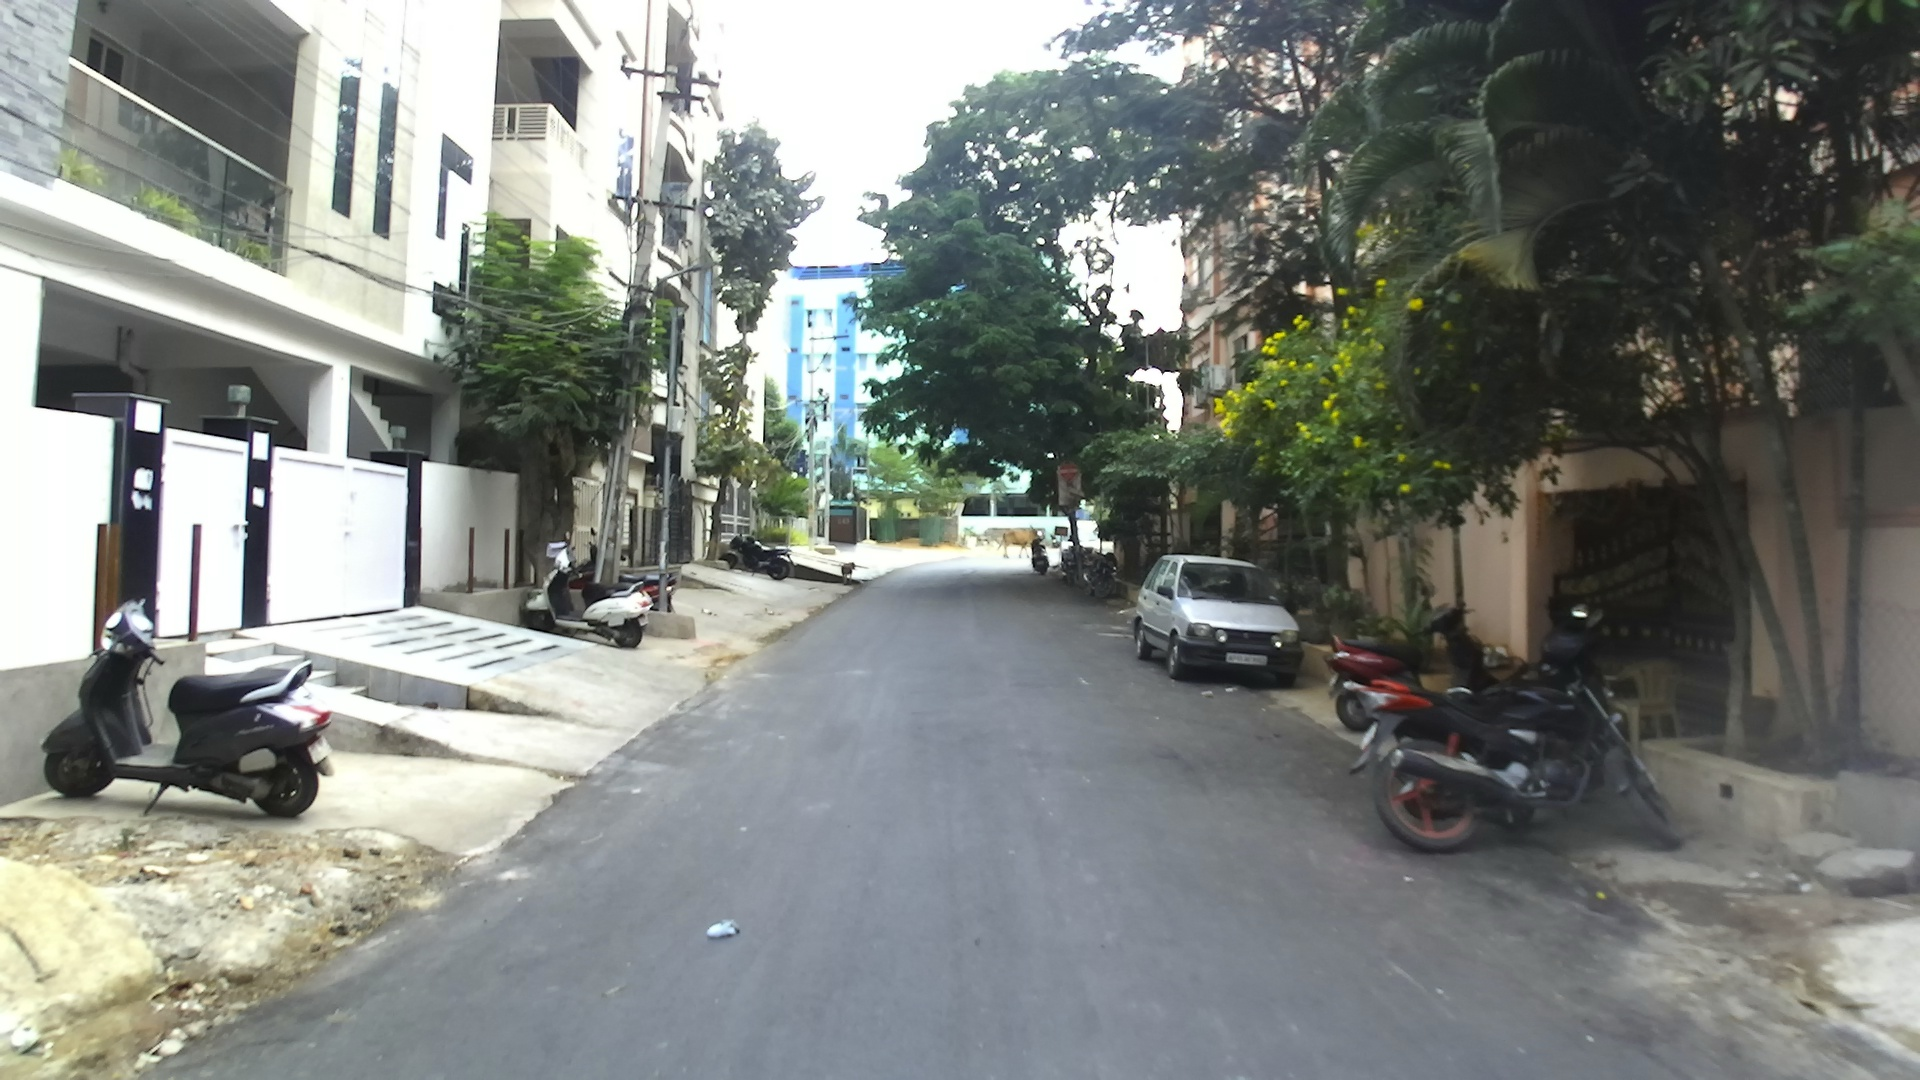vehicle: (1331, 607, 1685, 857), (1130, 554, 1304, 686)
